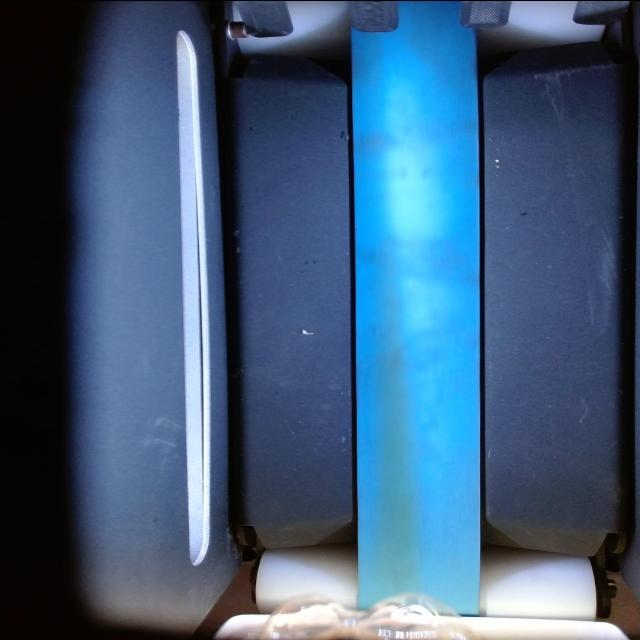bottle: (260, 593, 478, 640)
